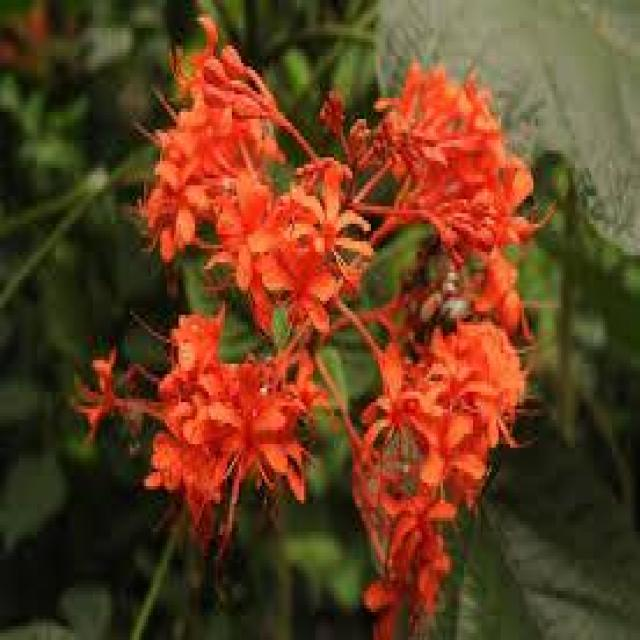organic waste: (362, 49, 547, 315), (139, 297, 343, 518), (357, 334, 522, 586), (231, 114, 407, 348), (140, 35, 261, 262)
